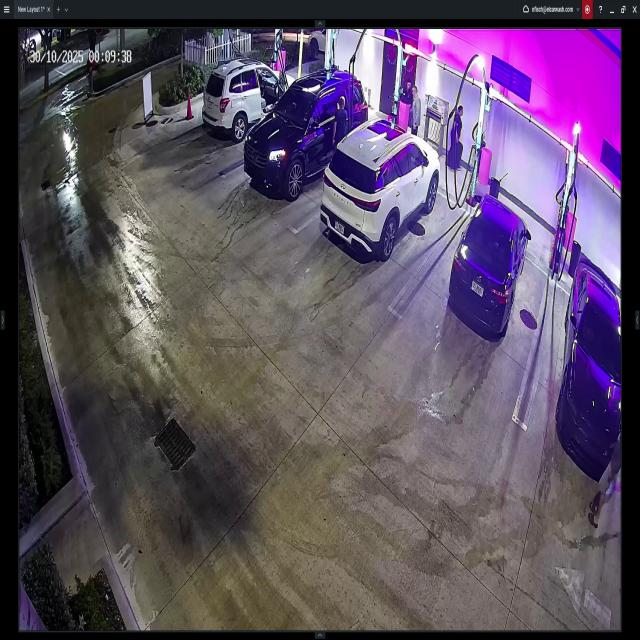Car: (323, 119, 438, 263), (556, 261, 627, 479), (249, 70, 367, 191), (452, 195, 529, 338), (201, 56, 297, 143), (303, 31, 327, 56)
